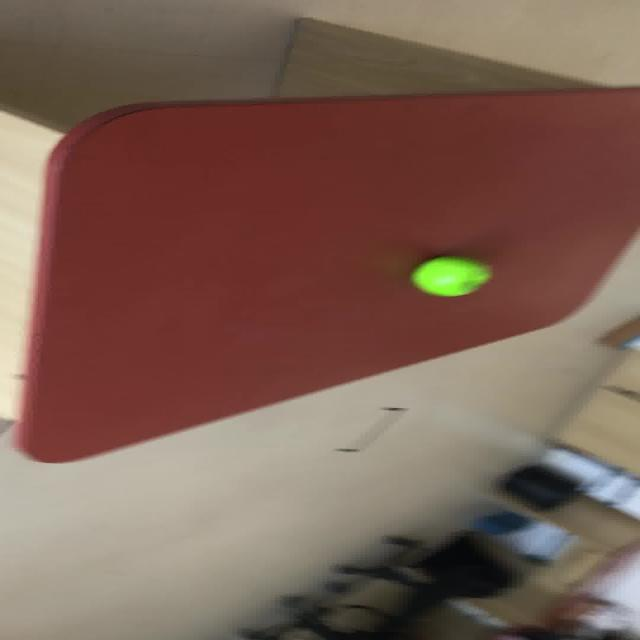apple: (409, 254, 492, 297)
